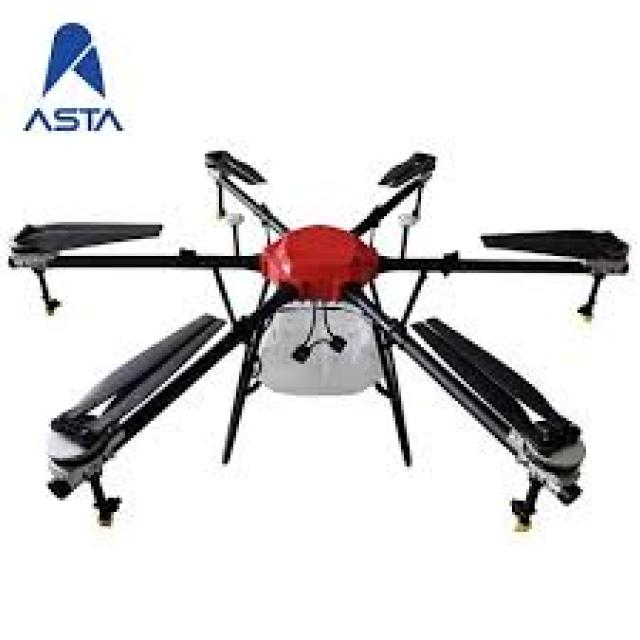drone: (0, 152, 640, 538)
